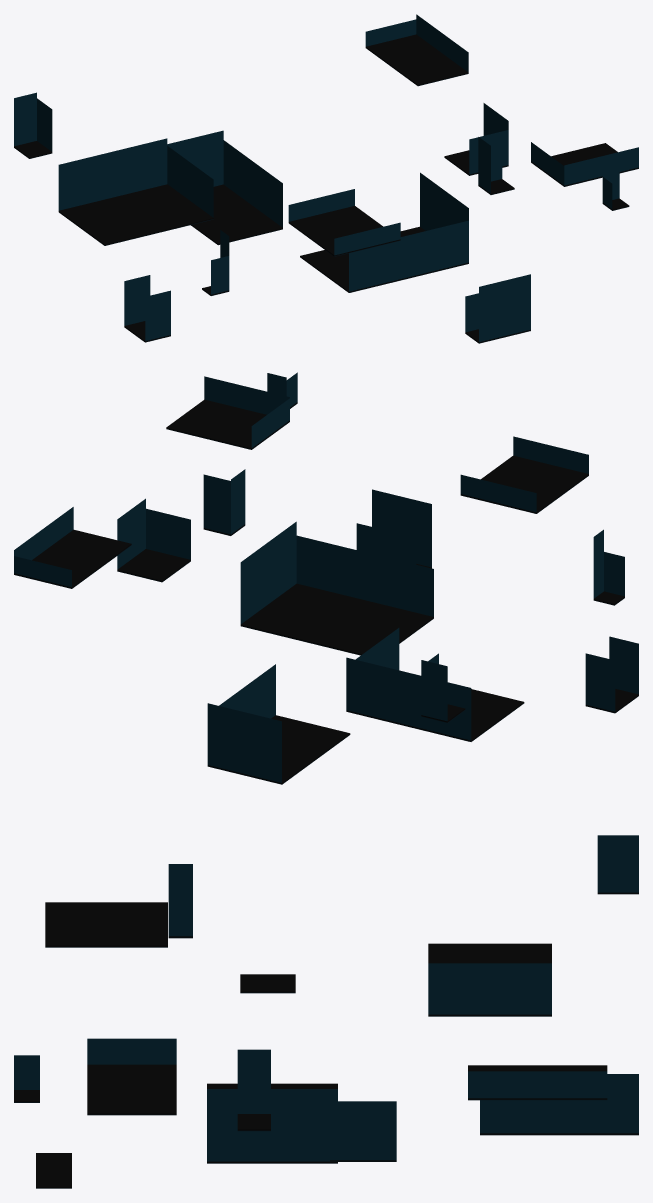
Rendered from far_ceiling_c.glb.
The picture shows the model from 3 angles, top to bottom: view 1: azimuth 30°, elevation 25°; view 2: azimuth 150°, elevation 25°; view 3: azimuth 270°, elevation 25°; orthographic projection. The views are drawn at different scales.
Visible parts, largest first — view 1: far_ceiling_skirt, tiles; view 2: far_ceiling_skirt, tiles; view 3: far_ceiling_skirt, tiles.
Boxes of the visible parts, box(x1,y1,x2,y2) form: far_ceiling_skirt: box(14, 14, 638, 342); tiles: box(14, 34, 638, 343); far_ceiling_skirt: box(14, 372, 638, 782); tiles: box(14, 399, 638, 784); far_ceiling_skirt: box(14, 835, 638, 1161); tiles: box(14, 892, 638, 1188).
Size of the model in its own units: 9.75 by 2.96 by 9.04.
